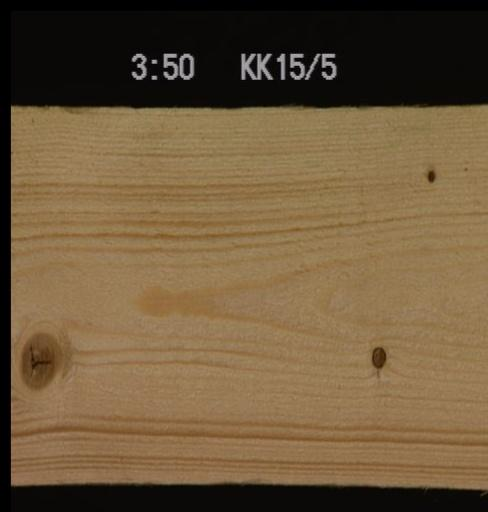dry_knot: (368, 343, 385, 369)
small_knot: (423, 166, 436, 184)
sound_knot: (17, 329, 59, 389)
